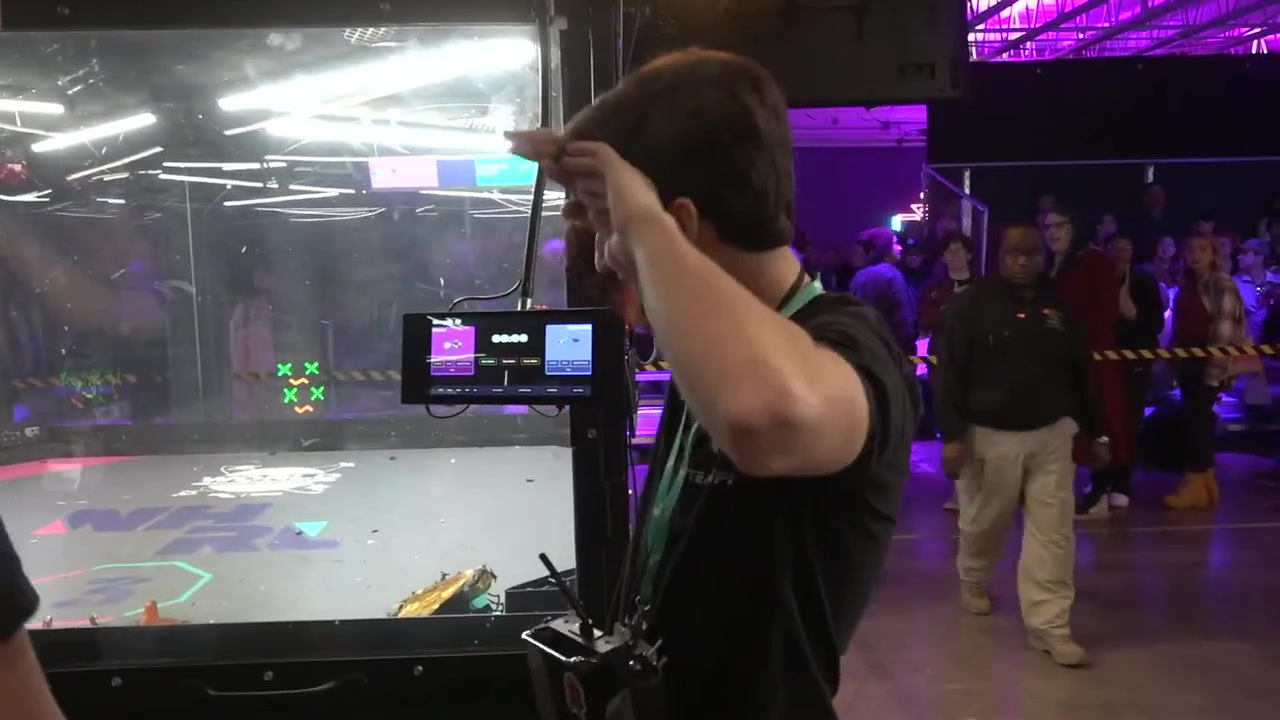combatbot: (399, 565, 499, 616)
